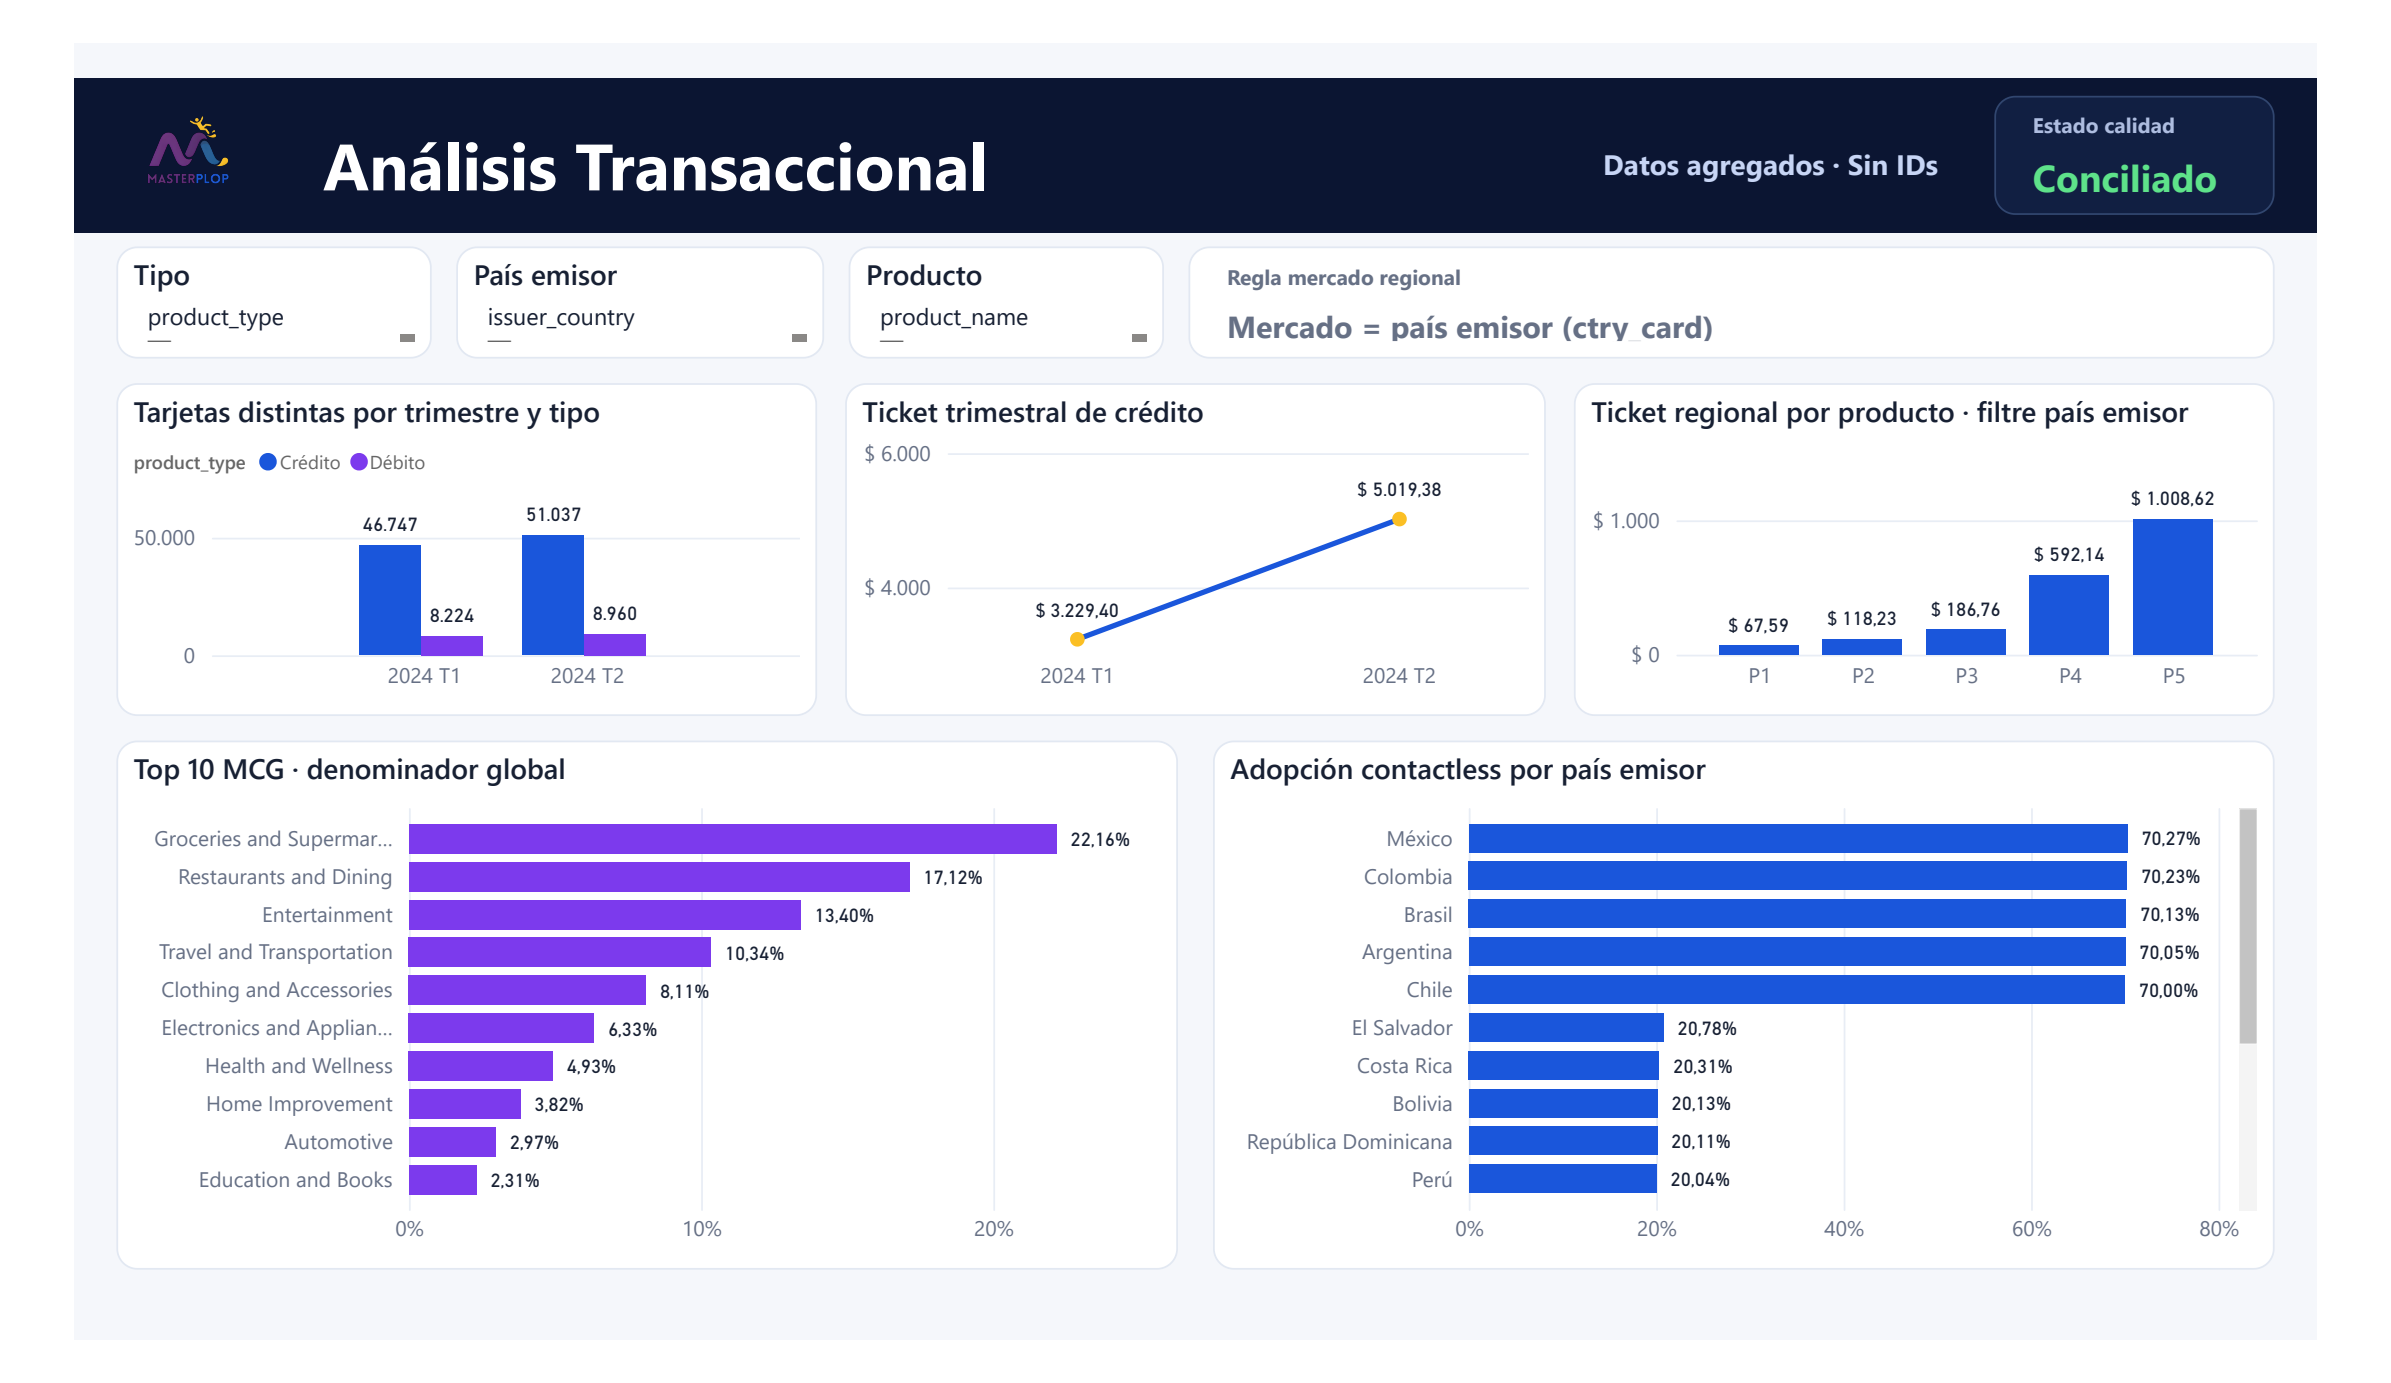

This screenshot's page, from the dashboard's own definition file:
{"tool":"powerbi","page":{"name":"2 · Análisis Transaccional","canvas":[1280,720],"ordinal":1},"visuals":[{"type":"cardVisual","fields":{"Data":["executive.Fondo cabecera"]},"box":[0,0,1280,88],"z":0},{"type":"image","box":[20,9,90,70],"z":1},{"type":"cardVisual","fields":{"Data":["executive.Titulo transaccional"]},"box":[124,6,680,76],"z":2},{"type":"cardVisual","fields":{"Data":["executive.Subtitulo general"]},"box":[816,10,266,68],"z":3},{"type":"cardVisual","title":"Calidad de datos","fields":{"Data":["executive.Estado calidad"]},"box":[1096,10,160,68],"z":4},{"type":"slicer","title":"Tipo","fields":{"Values":["volume.product_type"]},"box":[24,96,180,64],"z":10},{"type":"slicer","title":"País emisor","fields":{"Values":["regional_ticket.issuer_country"]},"box":[218,96,210,64],"z":11},{"type":"slicer","title":"Producto","fields":{"Values":["regional_ticket.product_name"]},"box":[442,96,180,64],"z":12},{"type":"cardVisual","title":"Definición regional","fields":{"Data":["executive.Regla mercado regional"]},"box":[636,96,620,64],"z":13},{"type":"clusteredColumnChart","title":"Tarjetas distintas por trimestre y tipo","fields":{"Category":["volume.period_label"],"Series":["volume.product_type"],"Y":["executive.Tarjetas activas periodo"]},"box":[24,174,400,190],"z":20},{"type":"lineChart","title":"Ticket trimestral de crédito","fields":{"Category":["quarterly_ticket.period_label"],"Y":["executive.Ticket trimestral credito USD"]},"box":[440,174,400,190],"z":21},{"type":"clusteredColumnChart","title":"Ticket regional por producto · filtre país emisor","fields":{"Category":["regional_ticket.product_name"],"Y":["executive.Ticket regional USD"]},"box":[856,174,400,190],"z":22},{"type":"clusteredBarChart","title":"Top 10 MCG · denominador global","fields":{"Category":["top_mcg.mcg_name"],"Y":["executive.Participacion MCG"]},"box":[24,378,606,302],"z":30},{"type":"clusteredBarChart","title":"Adopción contactless por país emisor","fields":{"Category":["contactless.issuer_country"],"Y":["executive.Adopcion contactless"]},"box":[650,378,606,302],"z":31}]}

Visuals, with their boxes in screenshot pixels (x1, y1, x2, y2), scaled from the page's 1280x720 canvas onto the 2391x1383 screenshot:
cardVisual - executive.Fondo cabecera: [x1=0, y1=0, x2=2390, y2=169]
image: [x1=37, y1=17, x2=205, y2=152]
cardVisual - executive.Titulo transaccional: [x1=232, y1=12, x2=1502, y2=158]
cardVisual - executive.Subtitulo general: [x1=1524, y1=19, x2=2021, y2=150]
"Calidad de datos" cardVisual: [x1=2047, y1=19, x2=2346, y2=150]
"Tipo" slicer: [x1=45, y1=184, x2=381, y2=307]
"País emisor" slicer: [x1=407, y1=184, x2=799, y2=307]
"Producto" slicer: [x1=826, y1=184, x2=1162, y2=307]
"Definición regional" cardVisual: [x1=1188, y1=184, x2=2346, y2=307]
"Tarjetas distintas por trimestre y tipo" clusteredColumnChart: [x1=45, y1=334, x2=792, y2=699]
"Ticket trimestral de crédito" lineChart: [x1=822, y1=334, x2=1569, y2=699]
"Ticket regional por producto · filtre país emisor" clusteredColumnChart: [x1=1599, y1=334, x2=2346, y2=699]
"Top 10 MCG · denominador global" clusteredBarChart: [x1=45, y1=726, x2=1177, y2=1306]
"Adopción contactless por país emisor" clusteredBarChart: [x1=1214, y1=726, x2=2346, y2=1306]
